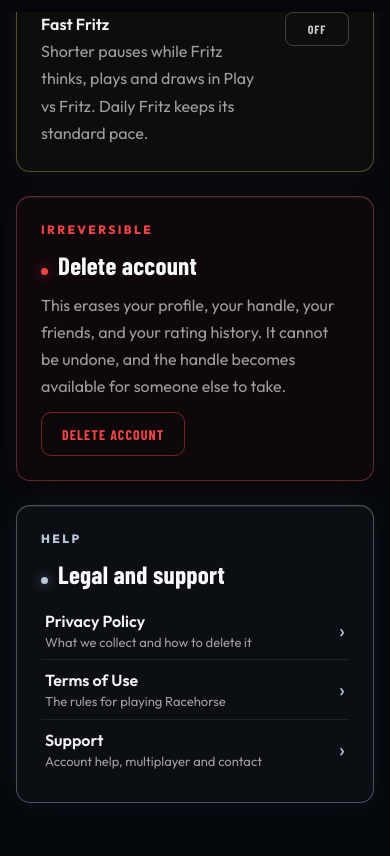
SettingsScreen — delete account › accepts the handle with stray whitespace or casing
(page scrolled)
Click the button "Delete account" at (113, 434), box [41, 412, 186, 456]
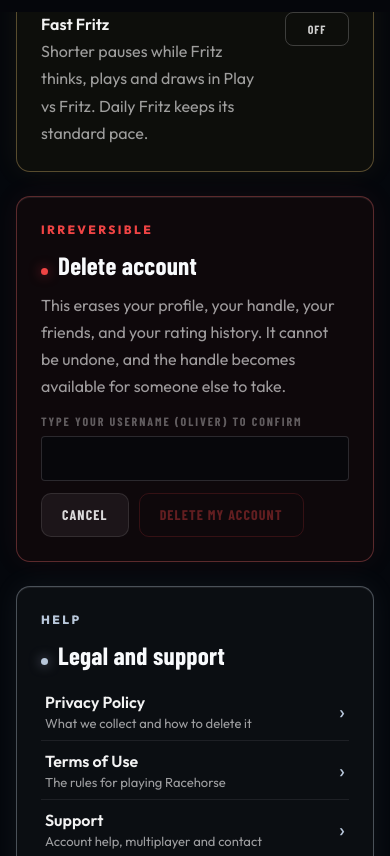
Type " Oliver " into the field labelled "Type your username (oliver) to confirm" at (195, 459), box [41, 436, 349, 481]
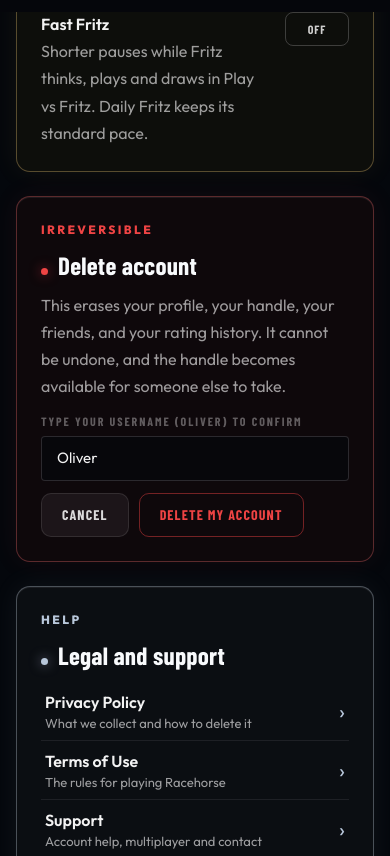
Now the button "Delete my account" is enabled, box [139, 493, 304, 537]
